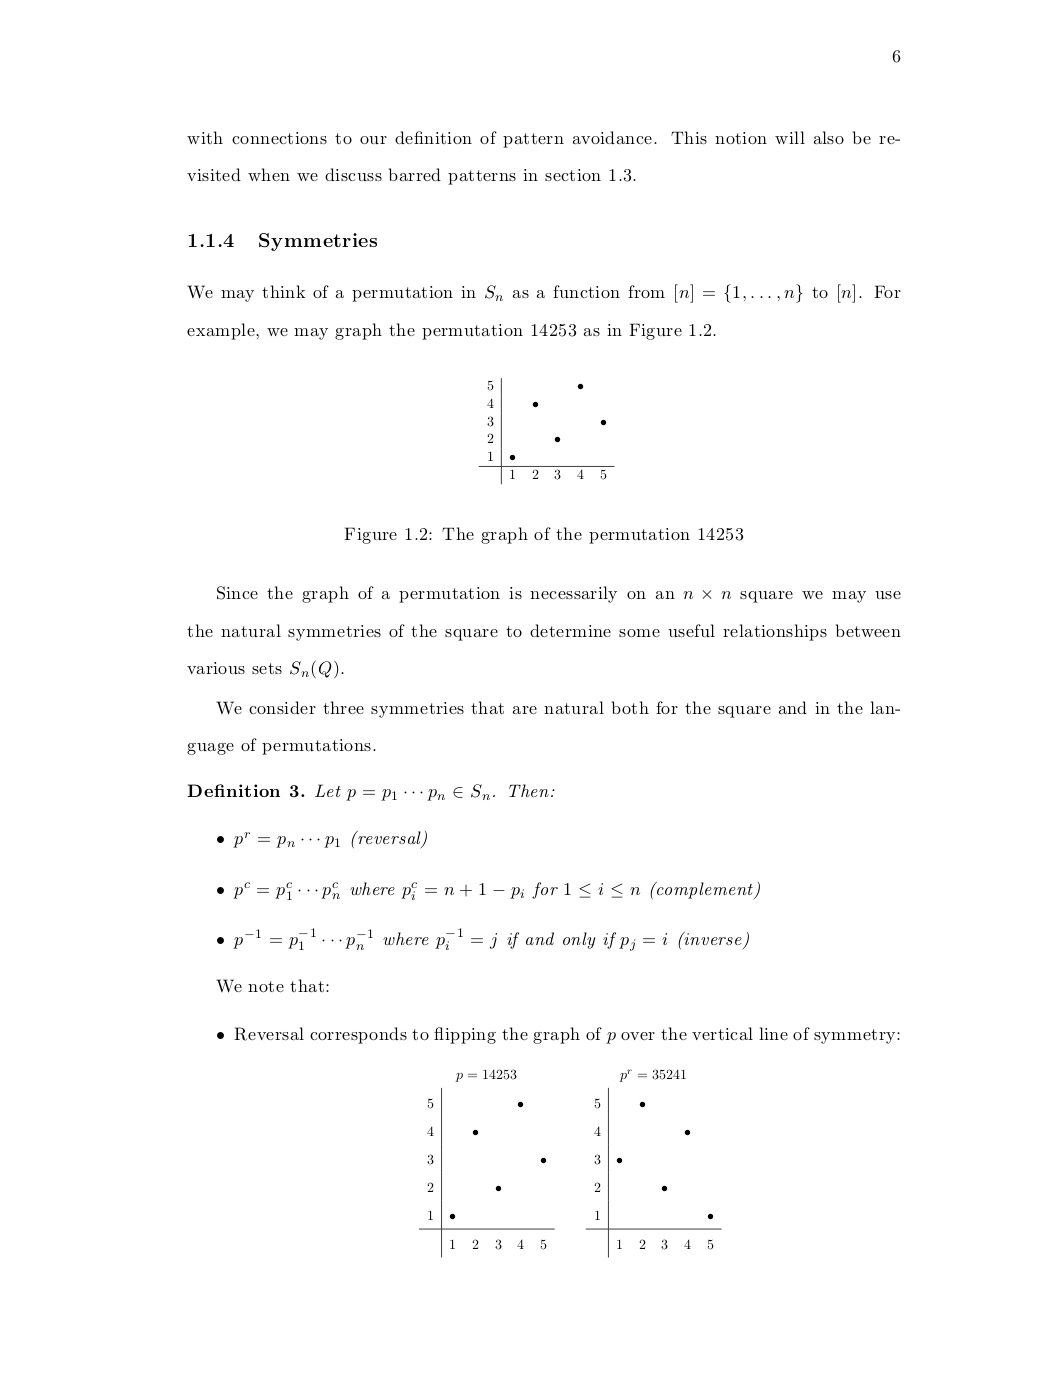figure: (585, 1087, 721, 1257), (424, 1087, 554, 1257), (478, 377, 614, 485)
formula: (217, 927, 748, 951), (217, 880, 759, 900), (217, 829, 426, 849)
